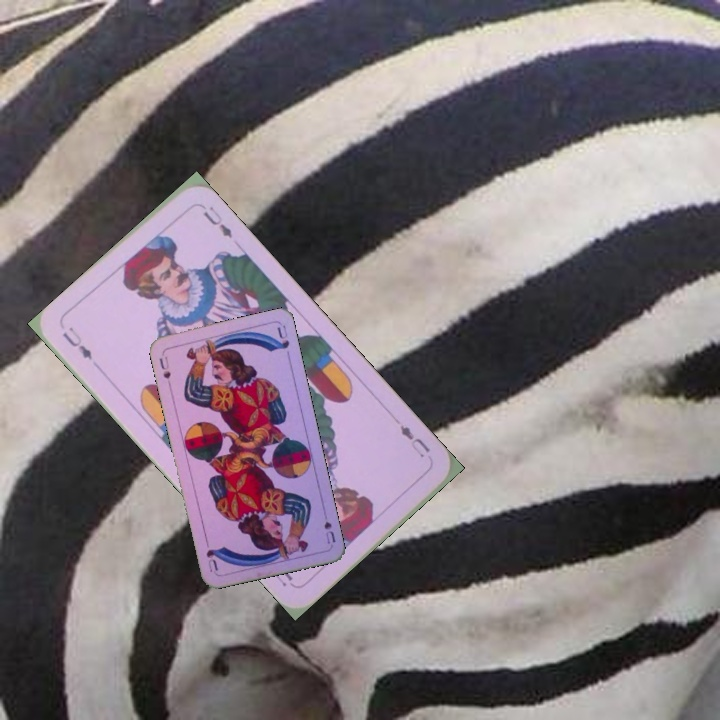EU: (395, 420, 433, 461), (58, 322, 95, 363)
SU: (320, 517, 338, 546), (155, 352, 173, 381)
